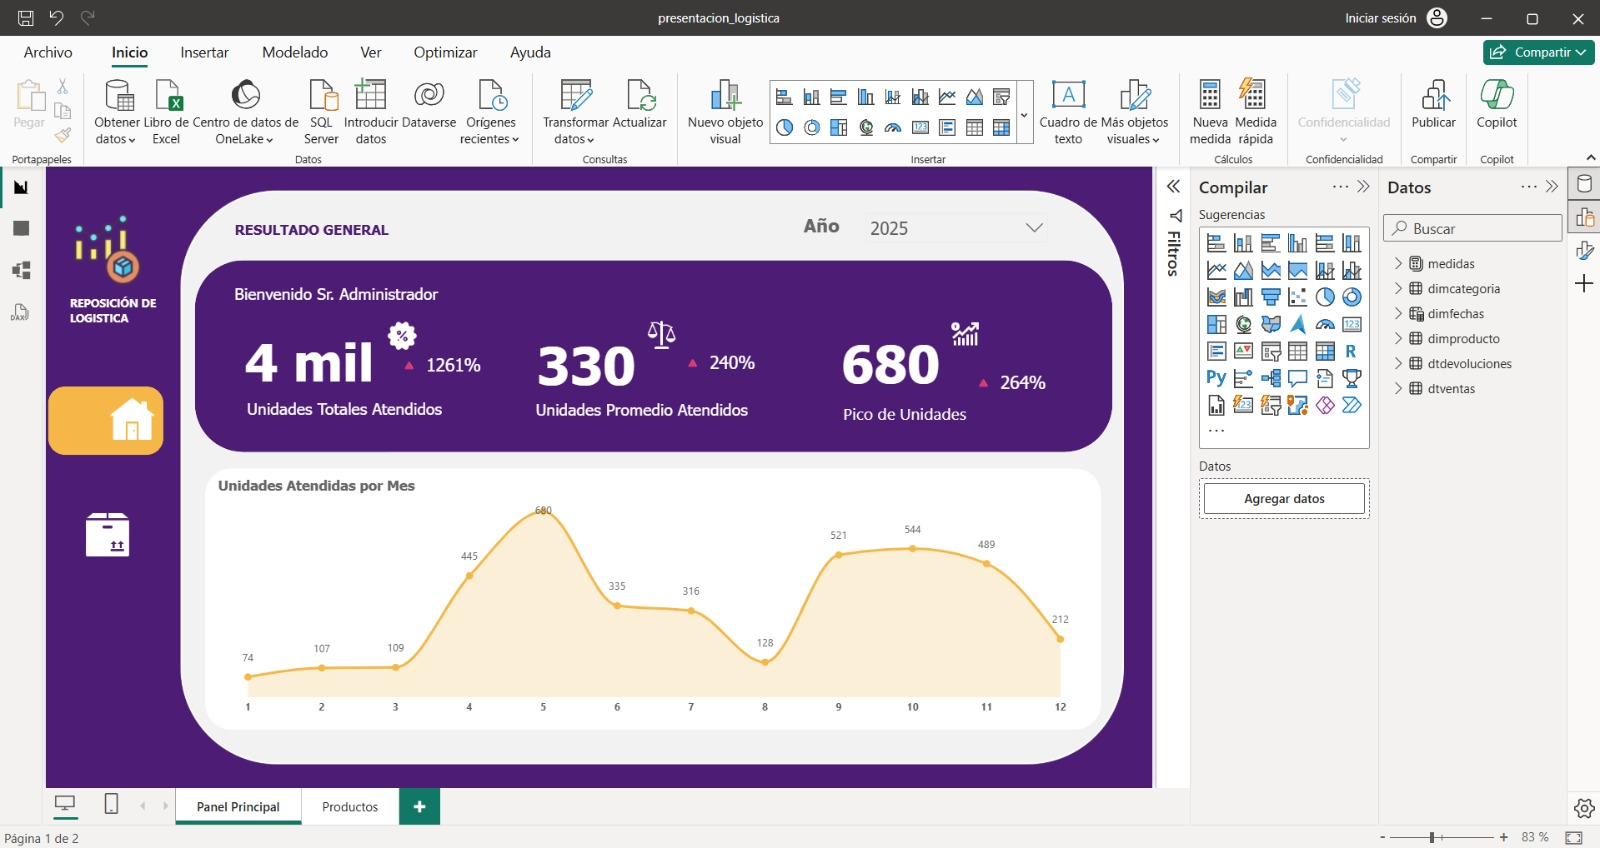

This screenshot's page, from the dashboard's own definition file:
{"tool":"powerbi","page":{"name":"Panel Principal","canvas":[1280,720],"ordinal":0},"visuals":[{"type":"image","box":[135.3,22.8,1133.3,674.9],"z":0},{"type":"shape","box":[172.5,109,1062.2,222.1],"z":0,"group":"g1"},{"type":"cardVisual","title":"Total de Unidades Vendidas","fields":{"Data":["dimcategoria.Venta Neto"]},"box":[213.4,155,280.2,132.3],"z":1000,"group":"g1"},{"type":"lineChart","title":"Unidades Atendidas por Mes","fields":{"Category":["dimfechas.MesNombre"],"Y":["dimcategoria.Venta Neto","dtventas.venta promedio eje secundario"]},"box":[184.8,349.8,1036.9,302.6],"z":1000},{"type":"slicer","fields":{"Values":["dimfechas.Año"]},"box":[938.4,43.6,231.6,60.2],"z":2000},{"type":"textbox","box":[219.4,277.8,324.6,46.2],"z":2000,"group":"g1"},{"type":"textbox","box":[872.2,49.6,63.2,40.6],"z":3000},{"type":"cardVisual","fields":{"Data":["dimcategoria.Venta Maxima"]},"box":[904.1,166.6,300.4,101.1],"z":3000,"group":"g1"},{"type":"group","id":"g1","title":"Grupo 1","box":[172.5,109,1062.2,222.1],"z":4000},{"type":"cardVisual","fields":{"Data":["dimcategoria.Venta Promedio"]},"box":[551.9,167.8,300.1,96.7],"z":4000,"group":"g1"},{"type":"textbox","box":[213.6,58.4,222.1,31.3],"z":5000},{"type":"textbox","box":[564.3,276.4,341.9,41.8],"z":5000,"group":"g1"},{"type":"image","box":[389.5,167.4,45.9,57.1],"z":6000},{"type":"textbox","box":[910.5,276.4,165.9,41.8],"z":6000,"group":"g1"},{"type":"image","box":[684.2,172.9,57.1,45.1],"z":7000},{"type":"image","box":[1040.6,166.9,45.1,54.1],"z":8000},{"type":"image","box":[35,49.5,96.5,95.3],"z":9000},{"type":"textbox","box":[22.8,143.8,129.6,48.4],"z":10000},{"type":"textbox","box":[213.6,131,679.2,48.4],"z":11000},{"type":"shape","box":[2.2,254.1,133.9,79.6],"z":12000},{"type":"image","box":[68.8,258.2,62.7,71.2],"z":13000},{"type":"image","box":[36.2,392.1,70,68.8],"z":14000},{"type":"cardVisual","fields":{"Data":["dimcategoria.Vental Neto Año Pasado"]},"box":[389.5,191,135.3,58.6],"z":15000},{"type":"cardVisual","fields":{"Data":["dimcategoria.Venta Promedio Año Pasado"]},"box":[717.3,188,135.3,55.6],"z":16000},{"type":"cardVisual","fields":{"Data":["dimcategoria.Venta Maxima Año Pasado"]},"box":[1041.2,195.4,135.1,54.3],"z":17000},{"type":"textbox","box":[406.9,238.1,137.1,56.3],"z":18000},{"type":"textbox","box":[735.8,233.7,137.1,53.4],"z":19000},{"type":"textbox","box":[1060.4,245.3,137.1,56.3],"z":20000}]}

Visuals, with their boxes on the page's 1280x720 design canvas (x1, y1, x2, y2). These are canvas units, not pixel positions in the 1600x848 screenshot, which may show the page scaled, cropped or inside an application window:
image: (left=135, top=23, right=1269, bottom=698)
shape: (left=172, top=109, right=1235, bottom=331)
"Total de Unidades Vendidas" cardVisual: (left=213, top=155, right=494, bottom=287)
"Unidades Atendidas por Mes" lineChart: (left=185, top=350, right=1222, bottom=652)
slicer - dimfechas.Año: (left=938, top=44, right=1170, bottom=104)
textbox: (left=219, top=278, right=544, bottom=324)
textbox: (left=872, top=50, right=935, bottom=90)
cardVisual - dimcategoria.Venta Maxima: (left=904, top=167, right=1204, bottom=268)
"Grupo 1" group: (left=172, top=109, right=1235, bottom=331)
cardVisual - dimcategoria.Venta Promedio: (left=552, top=168, right=852, bottom=264)
textbox: (left=214, top=58, right=436, bottom=90)
textbox: (left=564, top=276, right=906, bottom=318)
image: (left=390, top=167, right=435, bottom=224)
textbox: (left=910, top=276, right=1076, bottom=318)
image: (left=684, top=173, right=741, bottom=218)
image: (left=1041, top=167, right=1086, bottom=221)
image: (left=35, top=50, right=132, bottom=145)
textbox: (left=23, top=144, right=152, bottom=192)
textbox: (left=214, top=131, right=893, bottom=179)
shape: (left=2, top=254, right=136, bottom=334)
image: (left=69, top=258, right=132, bottom=329)
image: (left=36, top=392, right=106, bottom=461)
cardVisual - dimcategoria.Vental Neto Año Pasado: (left=390, top=191, right=525, bottom=250)
cardVisual - dimcategoria.Venta Promedio Año Pasado: (left=717, top=188, right=853, bottom=244)
cardVisual - dimcategoria.Venta Maxima Año Pasado: (left=1041, top=195, right=1176, bottom=250)
textbox: (left=407, top=238, right=544, bottom=294)
textbox: (left=736, top=234, right=873, bottom=287)
textbox: (left=1060, top=245, right=1198, bottom=302)
